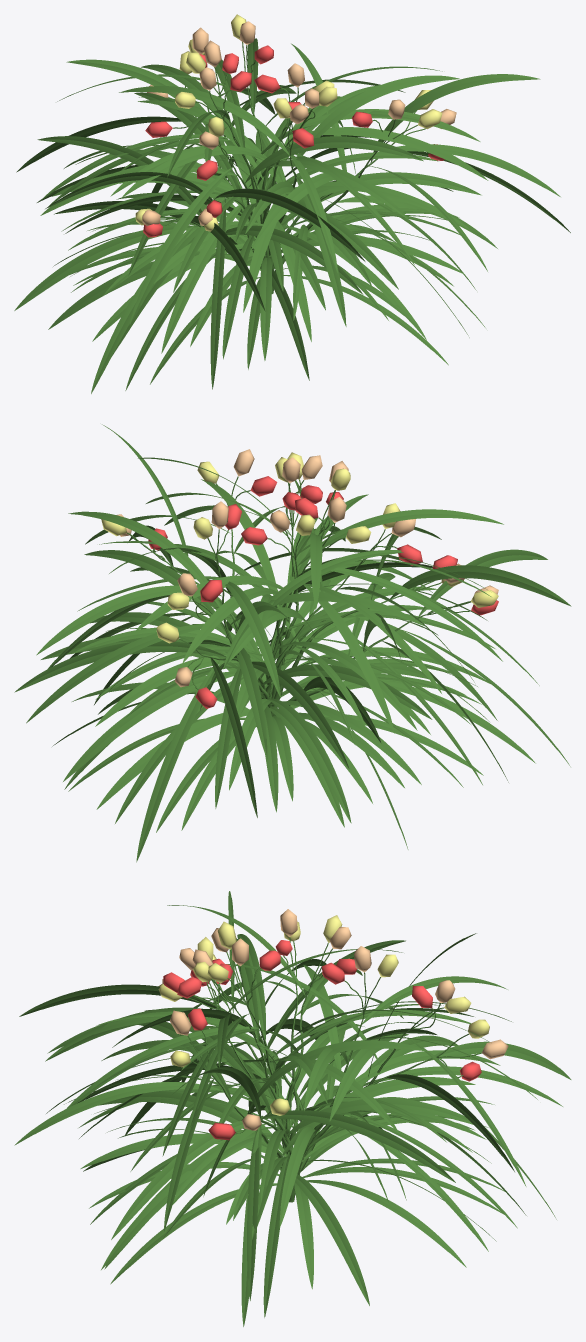
File: tulpis_lowpoly.glb
3 views of the same model, one above another, from view 1: azimuth 30°, elevation 25°; view 2: azimuth 150°, elevation 25°; view 3: azimuth 270°, elevation 25° (orthographic). The views are drawn at different scales.
Visible parts, largest first — view 1: Object_2, Object_3, Object_5, Object_6, Object_4; view 2: Object_2, Object_3, Object_6, Object_4, Object_5; view 3: Object_2, Object_3, Object_5, Object_4, Object_6.
Boxes of the visible parts, x1,y1,x2,y2 form: Object_2: [14, 38, 570, 393]; Object_3: [15, 42, 570, 393]; Object_5: [142, 21, 456, 225]; Object_6: [143, 45, 444, 237]; Object_4: [135, 14, 442, 231]; Object_2: [15, 424, 570, 862]; Object_3: [15, 436, 570, 861]; Object_6: [148, 476, 498, 708]; Object_4: [101, 452, 498, 643]; Object_5: [116, 449, 498, 687]; Object_2: [14, 891, 570, 1326]; Object_3: [15, 894, 570, 1326]; Object_5: [162, 909, 508, 1130]; Object_4: [158, 915, 489, 1115]; Object_6: [163, 940, 481, 1140].
Bounding box in the file's own units: 18.47 × 10.19 × 17.27.
